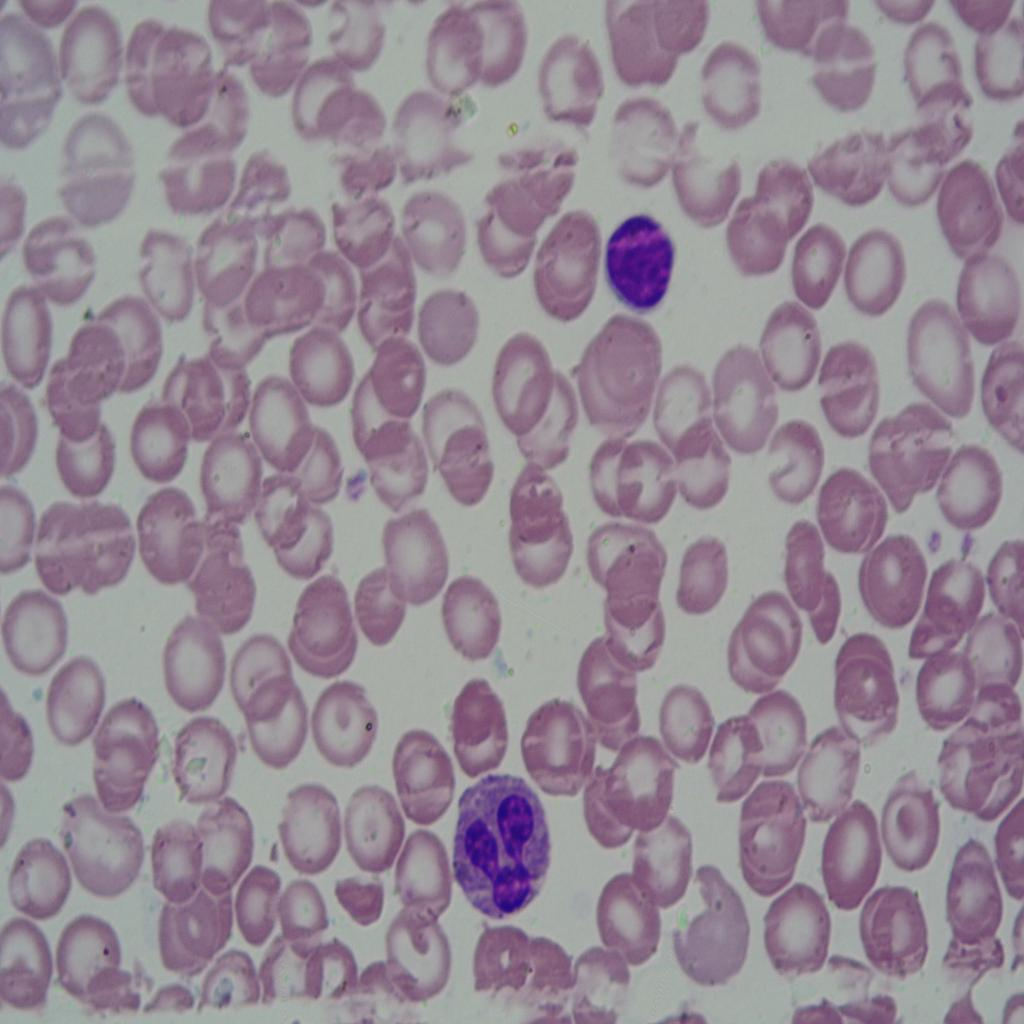Myeoblast: (597, 197, 686, 328)
Neutrofil: (446, 766, 554, 937)
Platelet: (340, 459, 375, 510), (922, 518, 944, 561)
